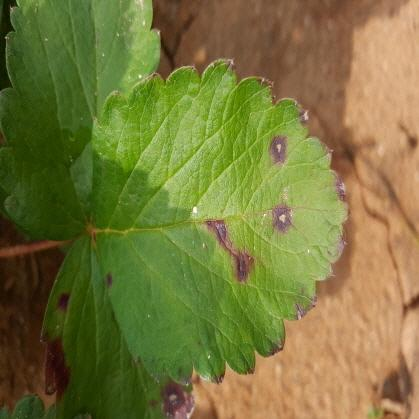Leaf Spot: (90, 59, 351, 385), (39, 229, 196, 418)
